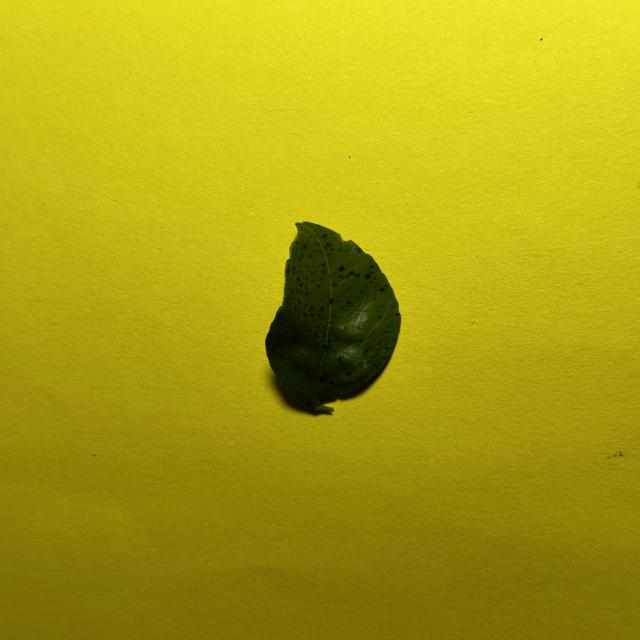sooty_mold: (266, 222, 400, 413)
